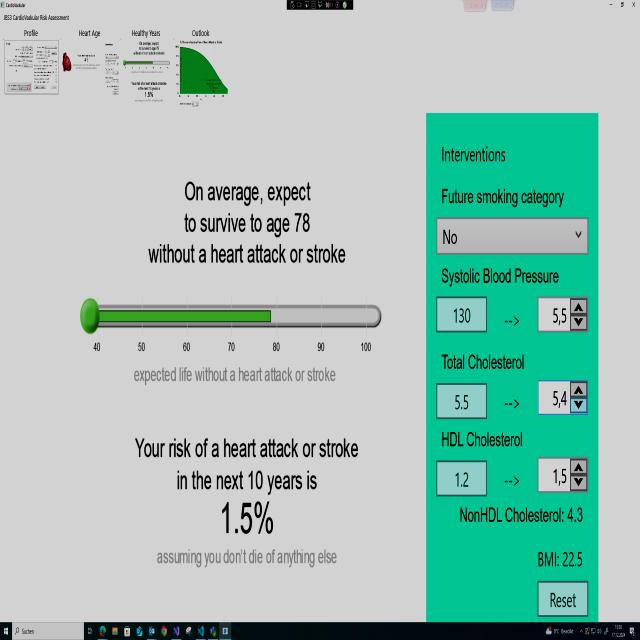button: (433, 378, 490, 425), (434, 294, 490, 338), (537, 576, 592, 620), (434, 460, 490, 500), (630, 0, 639, 8), (619, 0, 625, 10), (608, 0, 614, 9)
dropdownMenu: (432, 212, 590, 258), (554, 625, 584, 636), (545, 623, 552, 636)
icon: (220, 622, 232, 640), (160, 624, 168, 638), (99, 624, 106, 638), (136, 624, 143, 638), (210, 624, 217, 638), (148, 624, 155, 637), (173, 625, 180, 638), (186, 625, 193, 638), (198, 625, 205, 638), (629, 626, 636, 639), (124, 624, 130, 638), (3, 626, 9, 636), (112, 626, 118, 636), (585, 626, 590, 636), (604, 626, 609, 636), (591, 627, 596, 635), (597, 627, 602, 635)
input: (12, 623, 84, 640)
label: (438, 180, 566, 210), (438, 261, 561, 289), (456, 504, 586, 530), (438, 347, 530, 377), (438, 426, 526, 457), (439, 142, 512, 172), (532, 546, 588, 572), (2, 13, 74, 24), (500, 309, 524, 334), (501, 389, 522, 414), (501, 469, 523, 492), (128, 26, 164, 39), (76, 27, 106, 41), (188, 23, 216, 37), (20, 26, 42, 38)
menu: (0, 619, 640, 640)
upDown: (536, 376, 592, 426), (537, 293, 591, 339), (533, 456, 592, 498)
